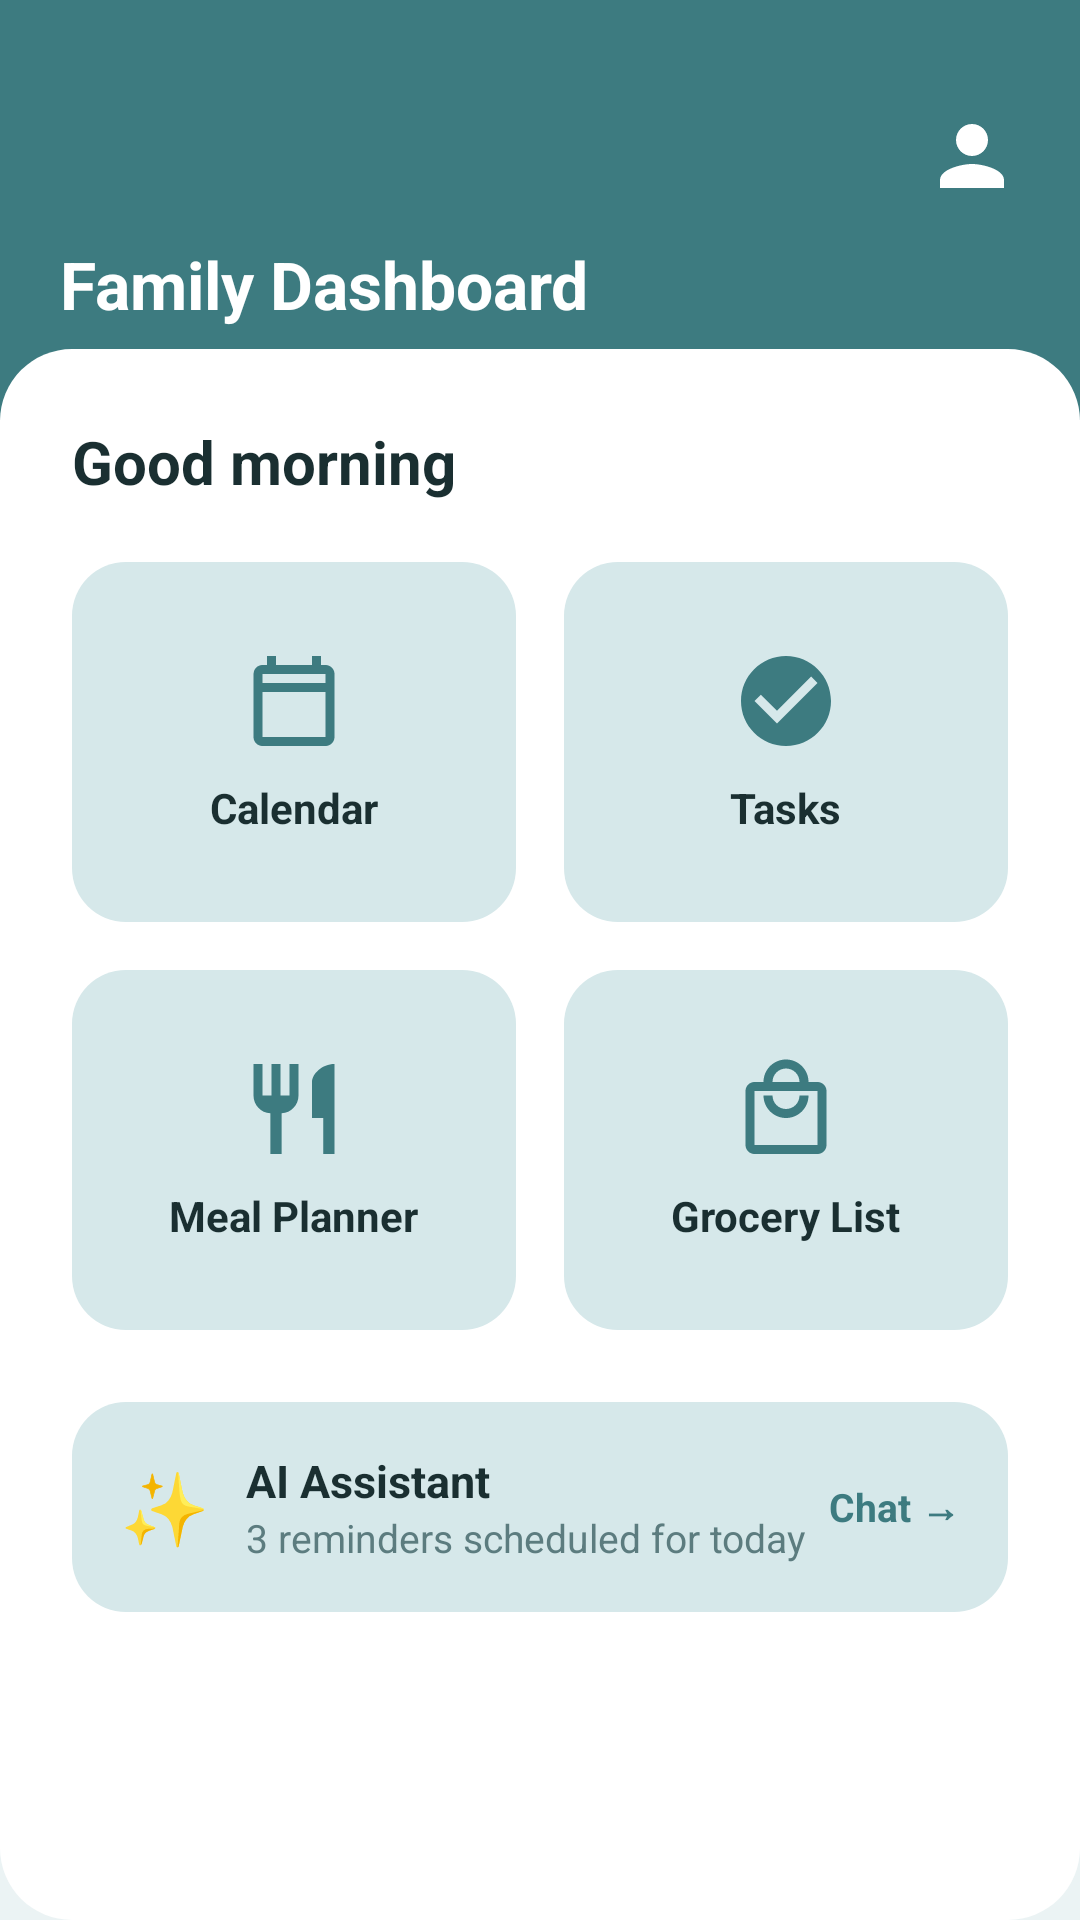

Screen size 1080*1920. Icon name, then its box in pixels as detection(x1, y1, x2, y2):
Meals Icon: detection(253, 1064, 335, 1154)
Profile: detection(940, 124, 1004, 188)
